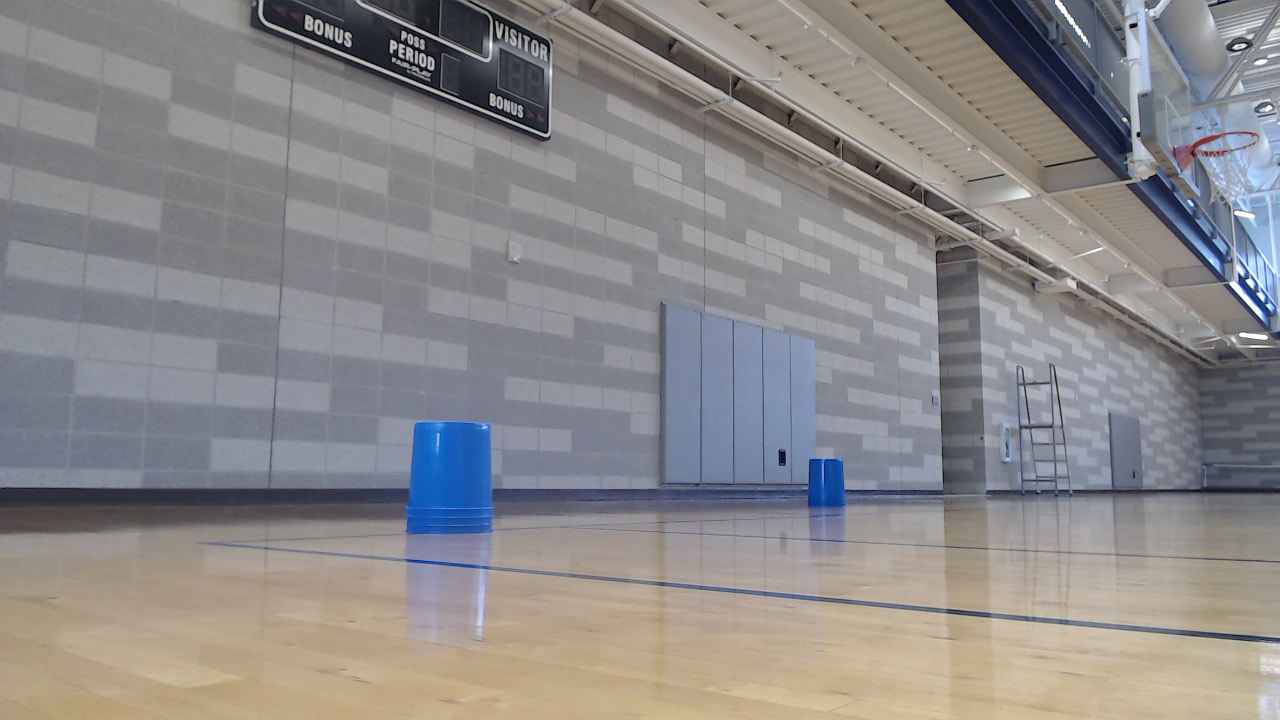blue_bucket: (408, 421, 505, 544), (809, 460, 856, 518)
